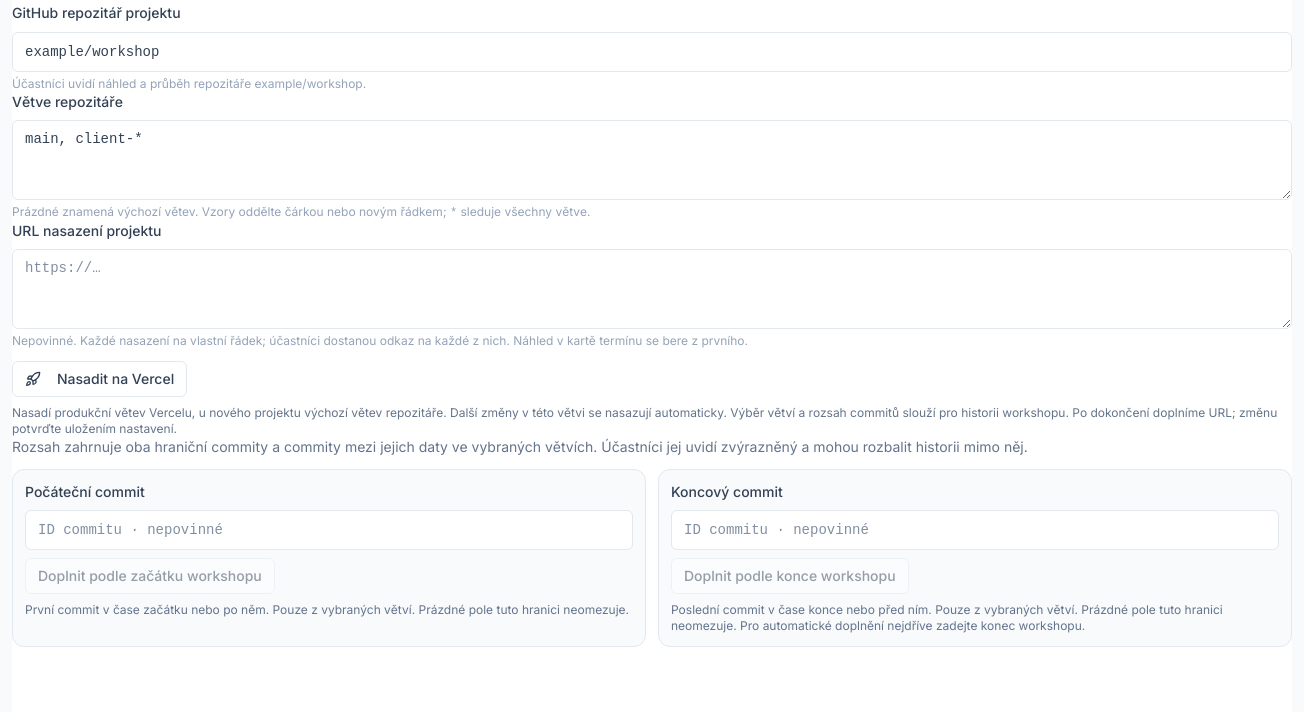
Test: Vercel control in the existing workshop project fields › explains CANCELED failures at the build stage
Click the button "Nasadit na Vercel" at (100,379), box [12, 361, 187, 397]
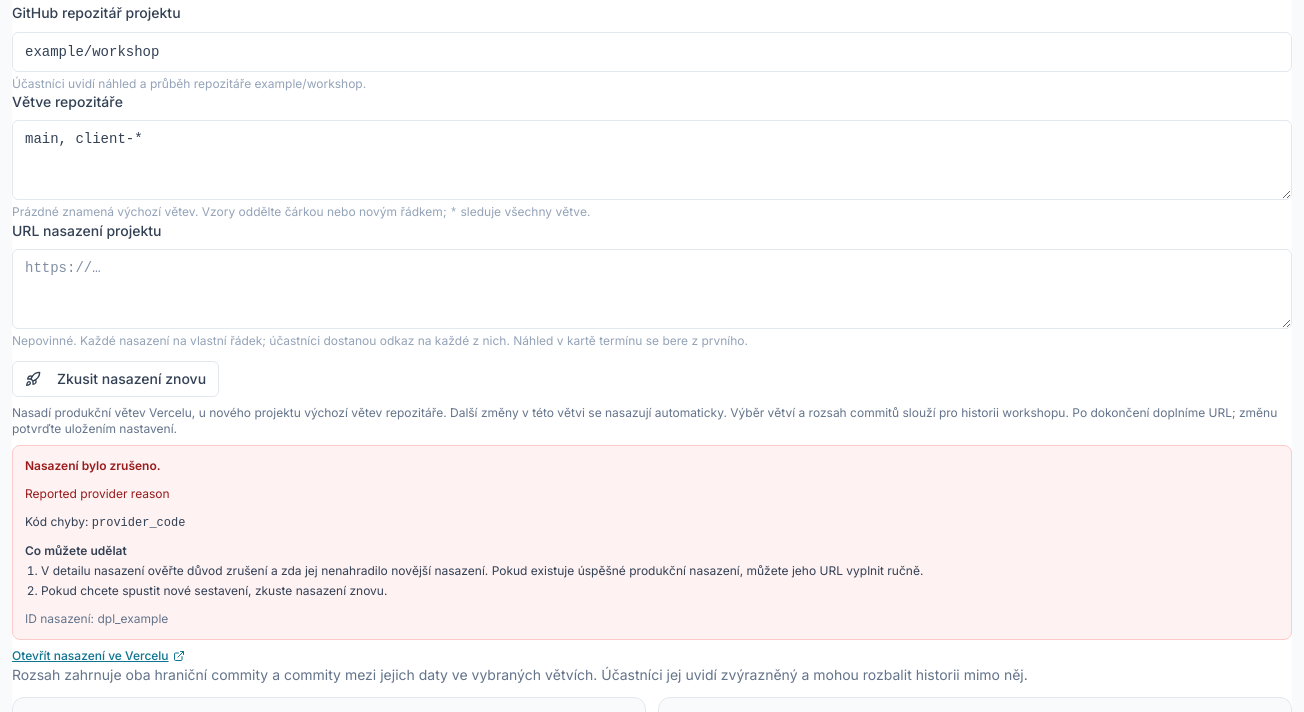
expect the message shows "Nasazení bylo zrušeno.": met, box [25, 458, 161, 473]
expect the message shows "novější nasazení": met, box [41, 563, 923, 578]
expect the message shows "Reported provider reason": met, box [25, 486, 170, 501]
